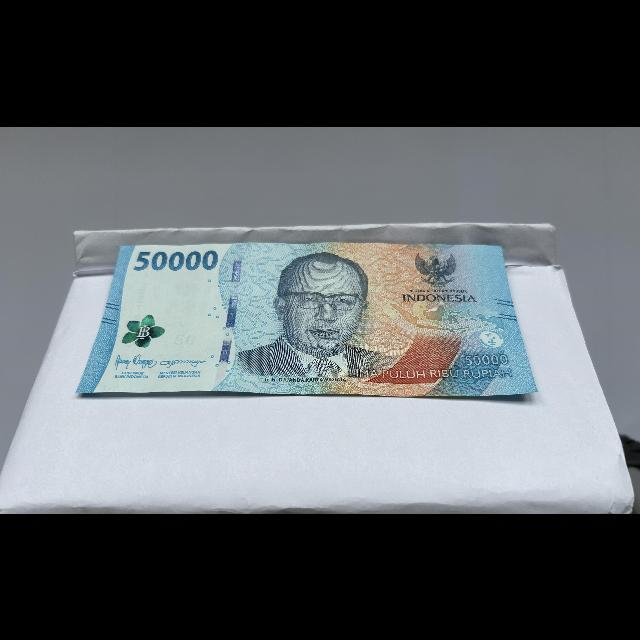Asli-50k: (72, 239, 543, 398)
Tinta-Asli-50k: (120, 309, 174, 353)
